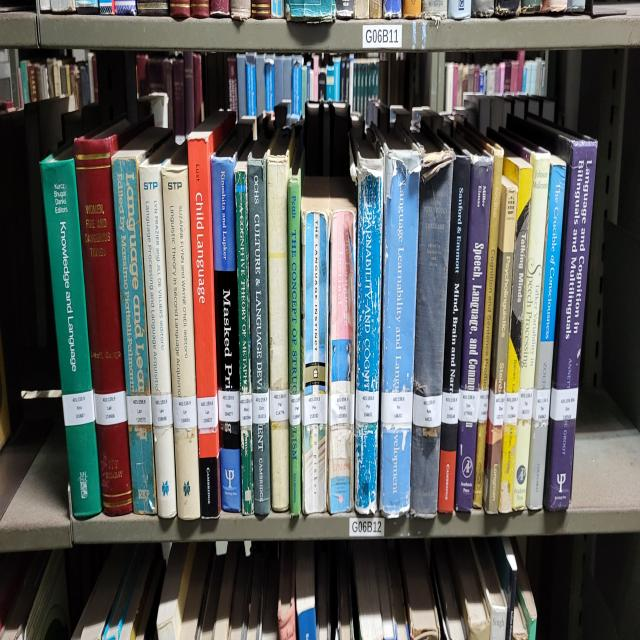Book: (529, 122, 598, 511), (75, 119, 140, 517), (40, 146, 101, 517), (112, 127, 169, 514), (188, 111, 235, 519), (410, 127, 454, 519), (380, 135, 421, 517), (211, 124, 251, 511), (139, 138, 178, 519), (161, 143, 200, 519), (526, 157, 566, 509), (512, 146, 550, 511), (455, 141, 492, 511), (350, 133, 384, 514), (470, 130, 504, 509), (499, 152, 532, 514), (438, 143, 470, 514), (484, 176, 518, 514), (266, 130, 295, 511), (301, 176, 330, 514), (329, 179, 356, 514), (248, 133, 270, 517), (235, 152, 254, 514), (288, 141, 304, 517)
Label: (62, 390, 95, 427), (94, 390, 128, 425), (412, 392, 442, 427), (381, 392, 412, 425), (550, 387, 578, 422), (172, 395, 198, 430), (330, 392, 355, 425), (198, 395, 219, 433), (126, 395, 152, 425), (355, 390, 379, 422), (151, 392, 172, 427), (304, 392, 326, 425), (218, 390, 240, 422), (532, 390, 551, 425), (459, 390, 479, 422), (270, 390, 289, 422), (441, 392, 459, 425), (252, 392, 269, 425), (489, 390, 505, 425), (518, 387, 534, 419), (504, 392, 519, 425), (240, 392, 252, 427), (289, 392, 301, 425), (478, 390, 489, 422)
